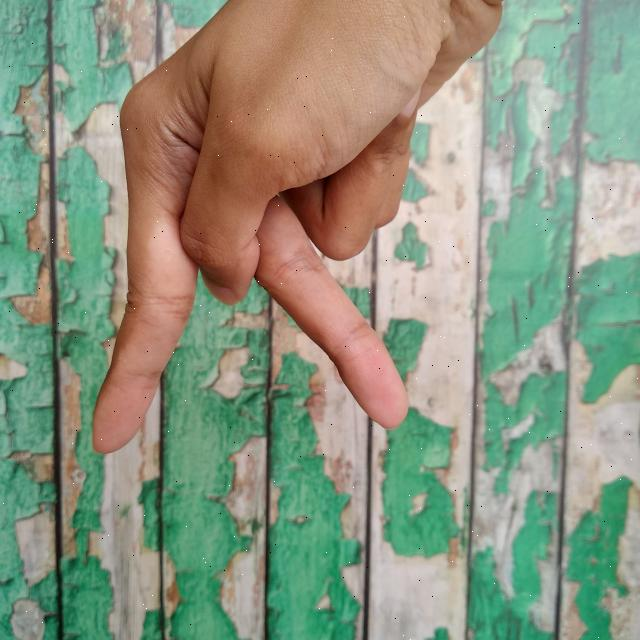P: (79, 0, 503, 465)
